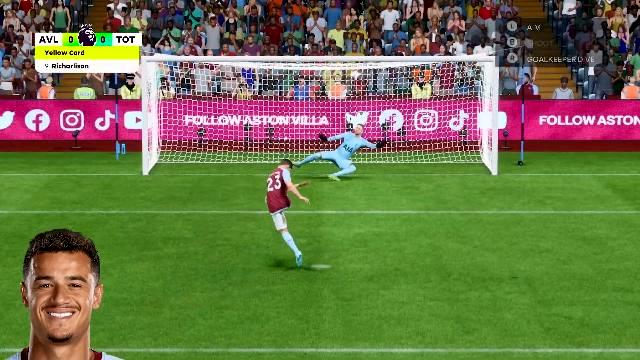bottom-left: (149, 128, 265, 180)
bottom-right: (371, 128, 487, 180)
center-down: (268, 129, 368, 179)
center-up: (266, 64, 368, 126)
goalkeeper: (290, 124, 386, 184)
player: (247, 172, 309, 286)
top-left: (148, 63, 264, 126)
top-right: (370, 64, 490, 126)
